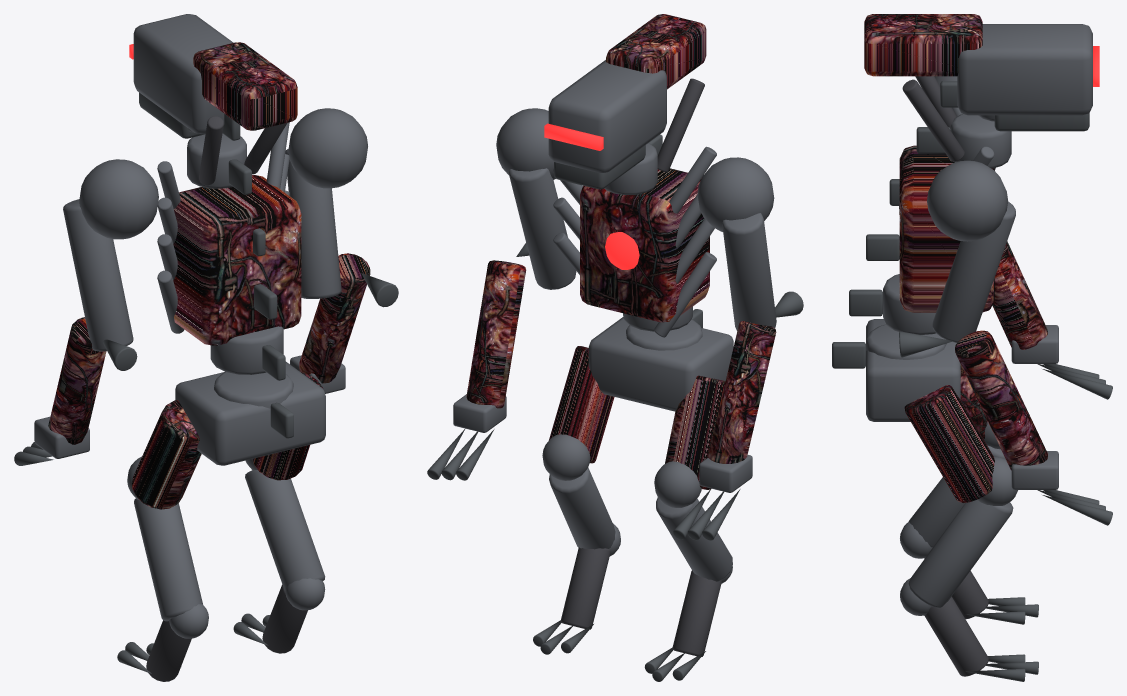
Rendered from glitch_walker.glb.
3 renders of one model, left to right at view 1: azimuth 30°, elevation 25°; view 2: azimuth 150°, elevation 25°; view 3: azimuth 270°, elevation 25°, orthographic. The views are drawn at different scales.
Parts seen in each view (by area): view 1: Torso, Arm_L, Head, Arm_R, Leg_L, Leg_R; view 2: Torso, Head, Arm_L, Arm_R, Leg_R, Leg_L; view 3: Head, Torso, Arm_R, Leg_R, Leg_L, Arm_L.
Part boxes in pixels (x1,y1,x2,y2): Torso: [157, 114, 325, 465]; Arm_L: [14, 159, 158, 465]; Head: [129, 14, 297, 185]; Arm_R: [285, 108, 398, 393]; Leg_L: [117, 400, 208, 681]; Leg_R: [233, 372, 325, 653]; Torso: [553, 134, 733, 411]; Head: [544, 14, 706, 189]; Arm_L: [673, 157, 803, 540]; Arm_R: [427, 108, 576, 480]; Leg_R: [533, 346, 620, 654]; Leg_L: [644, 375, 732, 681]; Head: [864, 14, 1099, 161]; Torso: [832, 81, 1011, 421]; Arm_R: [899, 160, 1112, 525]; Leg_R: [900, 385, 1038, 681]; Leg_L: [900, 364, 1038, 624]; Arm_L: [899, 76, 1112, 399].
Size of the model in its own units: 1.02 by 2.03 by 0.829.
5 materials, 1 textured.
